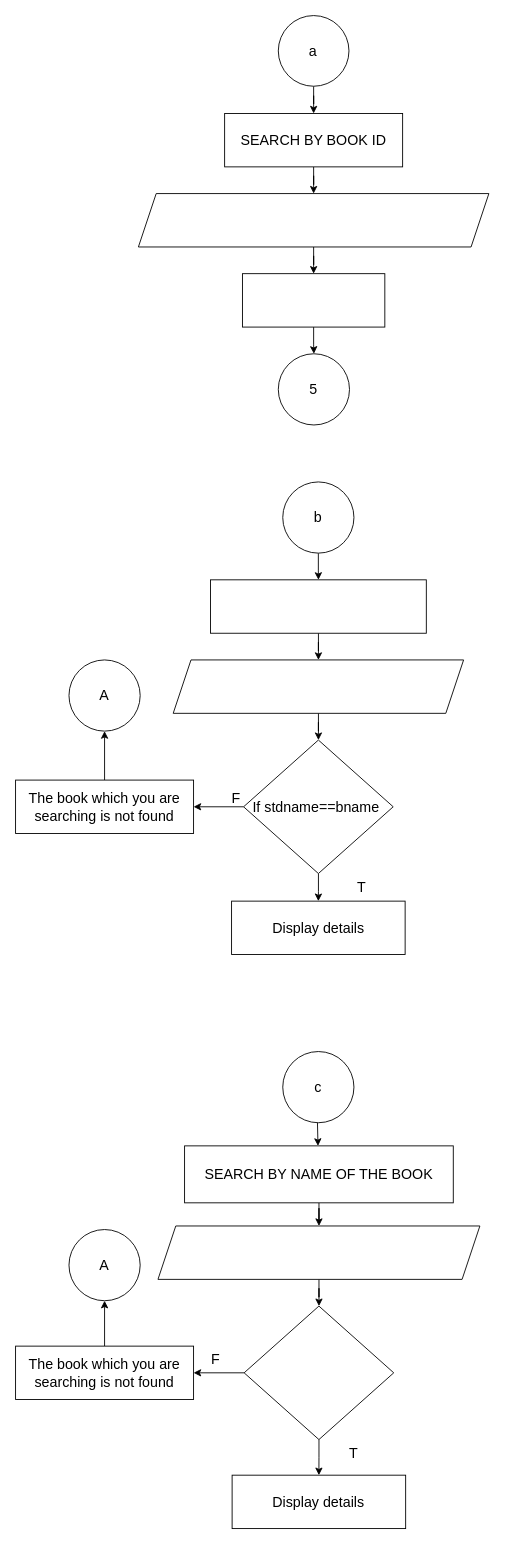
Some shapes in this 505 by 1544 pixel diagram are drawn without their labels. Here are the shapes that lost their labels. From the top down, the centre of each, then its label:
At (313,220): "Enter the book id no.which you want to search::".
At (313,300): "Display record".
At (318,606): "SEARCH BY STUDENT NAME".
At (318,686): "Enter the Name of the student which you want to search=".
At (318,1252): "Enter the Name of the book which you want to search=".
At (318,1372): "If bookname==subject".
